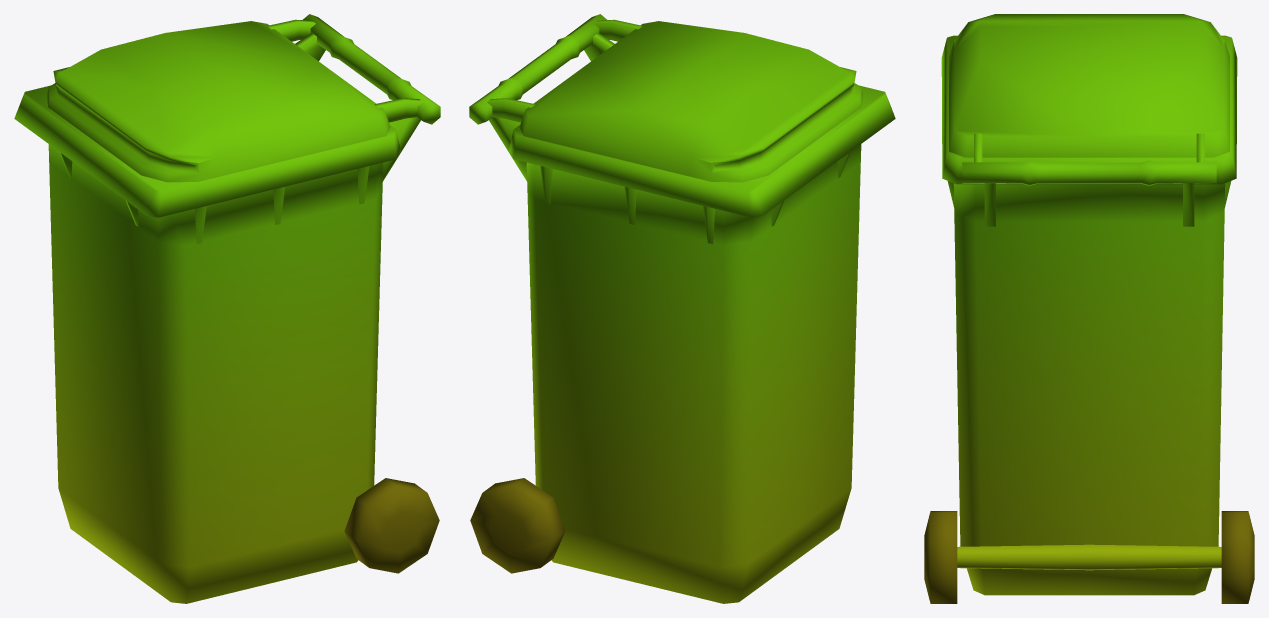
File: ObstacleWheelyBinNight.glb
The picture shows the model from 3 angles, left to right: view 1: azimuth 30°, elevation 25°; view 2: azimuth 150°, elevation 25°; view 3: azimuth 270°, elevation 25°; orthographic projection. The views are drawn at different scales.
Parts seen in each view (by area): view 1: WheelyBinBodyNight, WheelyBinTopNight; view 2: WheelyBinBodyNight, WheelyBinTopNight; view 3: WheelyBinBodyNight, WheelyBinTopNight.
Part boxes in pixels (bbox=[...]): WheelyBinBodyNight: bbox=[14, 33, 439, 603]; WheelyBinTopNight: bbox=[47, 14, 440, 182]; WheelyBinBodyNight: bbox=[470, 33, 895, 603]; WheelyBinTopNight: bbox=[469, 14, 862, 182]; WheelyBinBodyNight: bbox=[924, 35, 1254, 603]; WheelyBinTopNight: bbox=[949, 14, 1229, 185].
Size of the model in its own units: 1.42 by 2.14 by 1.31.
Materials: 2 (1 with a texture image).
